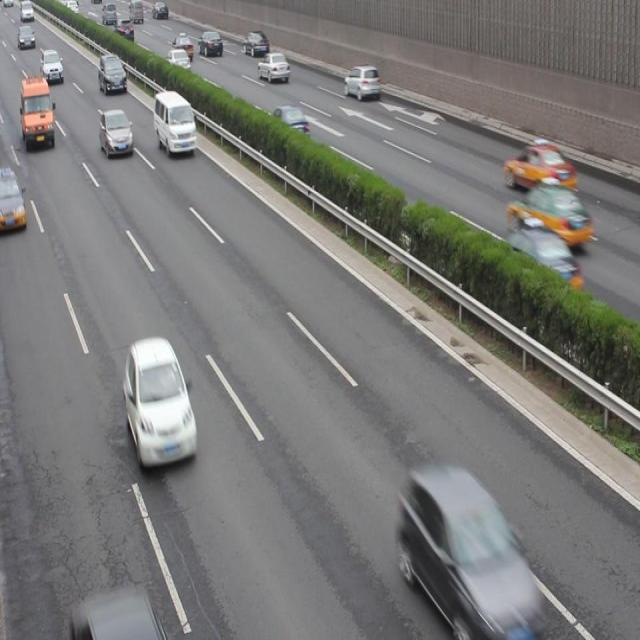car: (400, 462, 540, 640), (127, 335, 195, 470), (501, 222, 582, 302), (508, 178, 588, 251), (503, 136, 575, 198), (1, 168, 27, 234), (100, 108, 132, 158), (268, 105, 308, 140), (344, 63, 379, 102), (256, 51, 290, 83), (99, 56, 127, 94), (41, 50, 63, 82), (166, 48, 191, 75), (198, 29, 222, 55), (243, 30, 267, 56), (171, 34, 193, 58), (114, 20, 134, 40)
truck: (153, 91, 196, 152), (20, 79, 56, 147)
